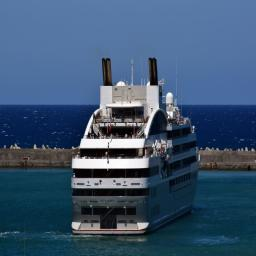cruises: (69, 57, 202, 239)
